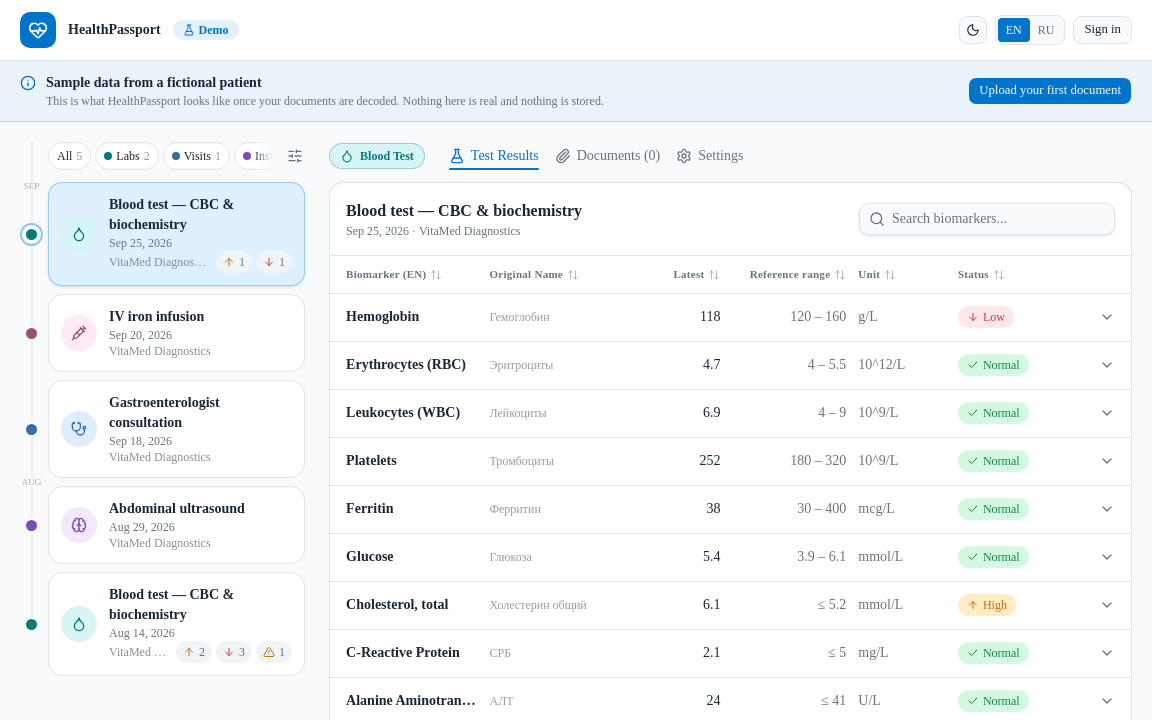
Test: DemoTimelineView › shows the entry settings minus the delete danger zone
Click the tab "Settings" at (710, 156), box [668,142,751,170]
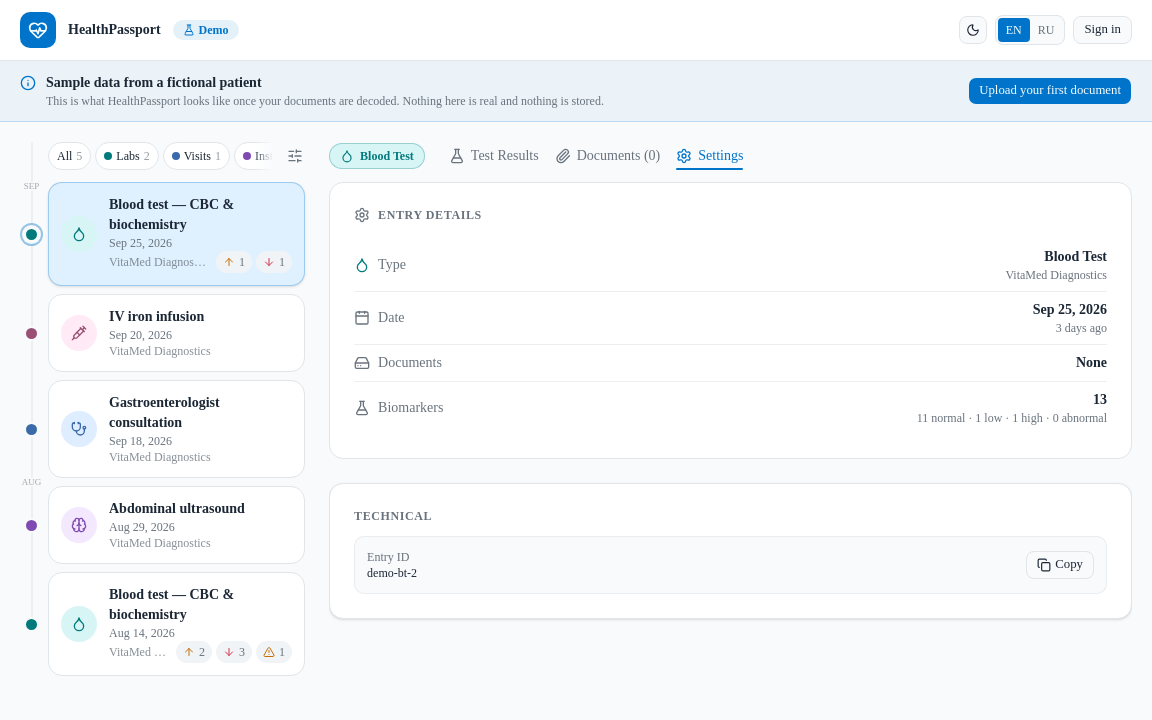
Check: the heading "Entry Details" is shown, box [378,207,482,223]
Check: the button with aria-label "Copy entry ID" is shown, box [1026,551,1094,579]
